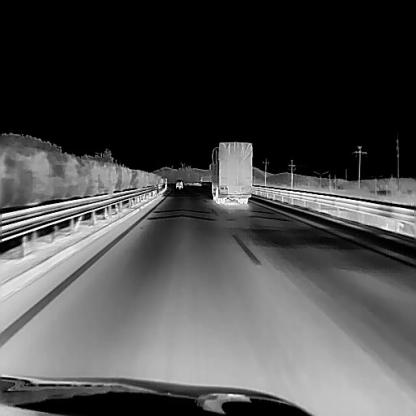car: (174, 177, 183, 188)
truck: (208, 140, 252, 202)
